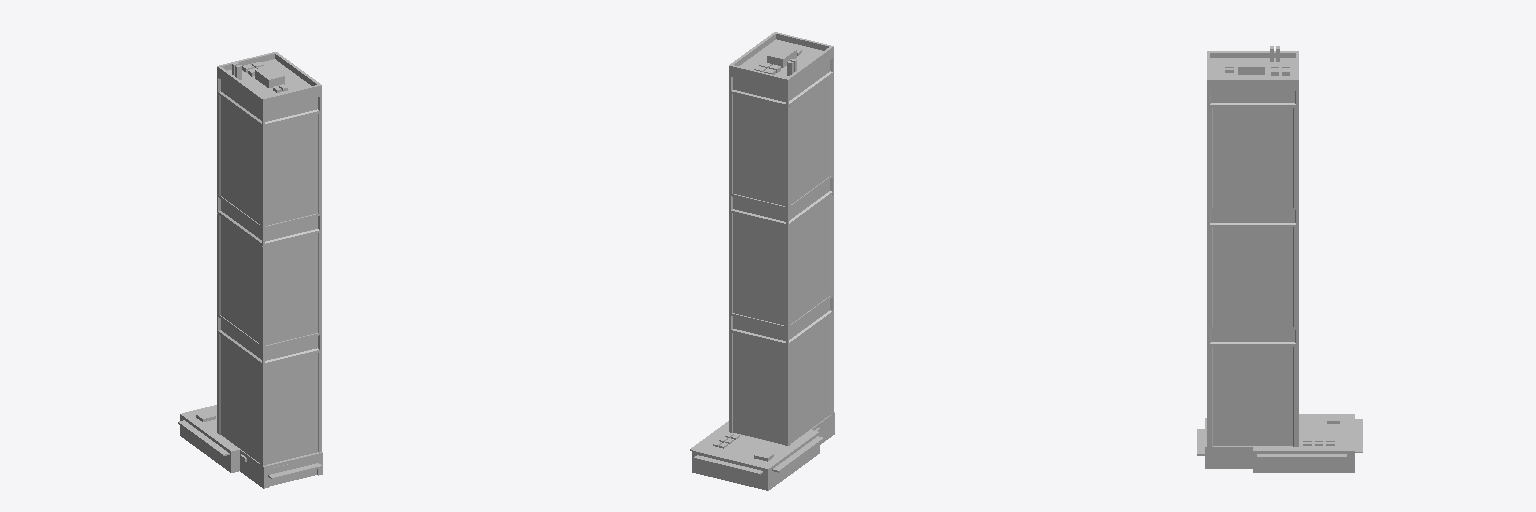
Rendered from Building_01.obj.
3 views of the same model, side by side, from view 1: azimuth 30°, elevation 25°; view 2: azimuth 150°, elevation 25°; view 3: azimuth 270°, elevation 25° (orthographic).
Visible parts, largest first — view 1: Building_01.001; view 2: Building_01.001; view 3: Building_01.001.
Boxes of the visible parts, box(x1,y1,x2,y2) form: Building_01.001: box(178, 52, 322, 488); Building_01.001: box(690, 32, 834, 490); Building_01.001: box(1197, 46, 1362, 472).
Size of the model in its own units: 8.59 by 36.57 by 13.81.